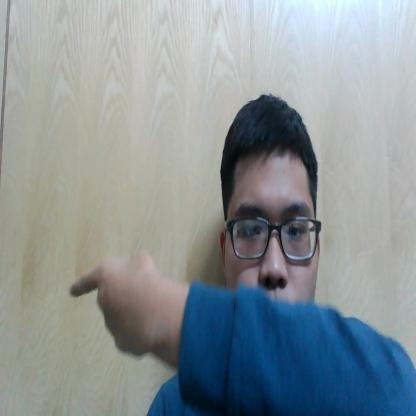right: (59, 235, 170, 376)
